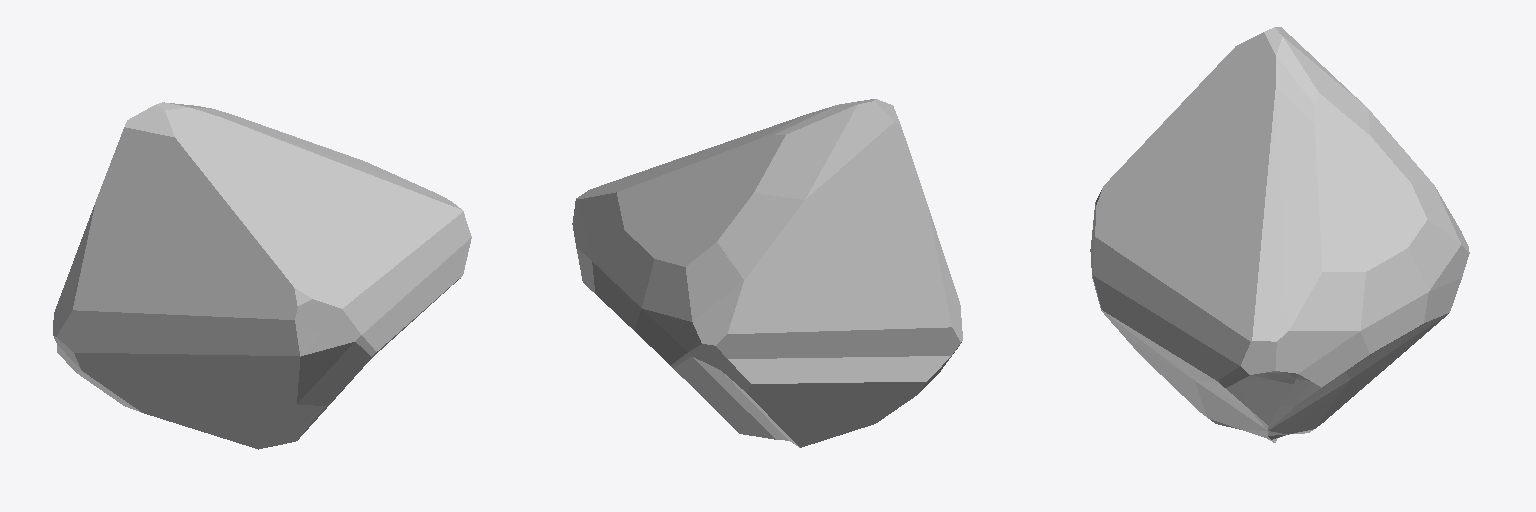
File: Rock_05_Hite.obj
The picture shows the model from 3 angles: view 1: azimuth 30°, elevation 25°; view 2: azimuth 150°, elevation 25°; view 3: azimuth 270°, elevation 25°; orthographic projection.
Parts seen in each view (by area): view 1: pCube1; view 2: pCube1; view 3: pCube1.
Boxes of the visible parts, x1,y1,x2,y2 form: pCube1: [53, 102, 471, 449]; pCube1: [572, 99, 962, 447]; pCube1: [1090, 27, 1469, 442].
Bounding box in the file's own units: 18.48 × 15.9 × 15.34.